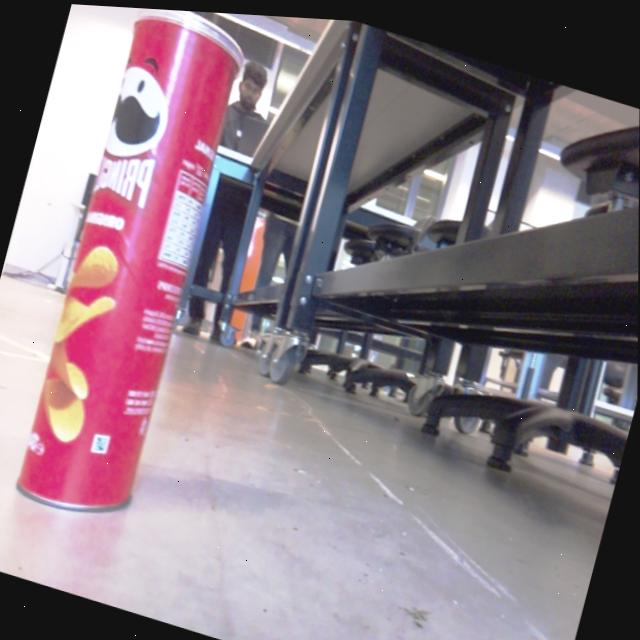redpringles: (0, 0, 279, 547)
